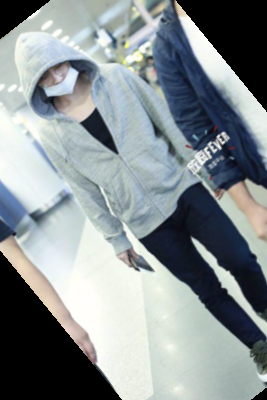mask_weared_incorrect: (5, 20, 98, 108)
